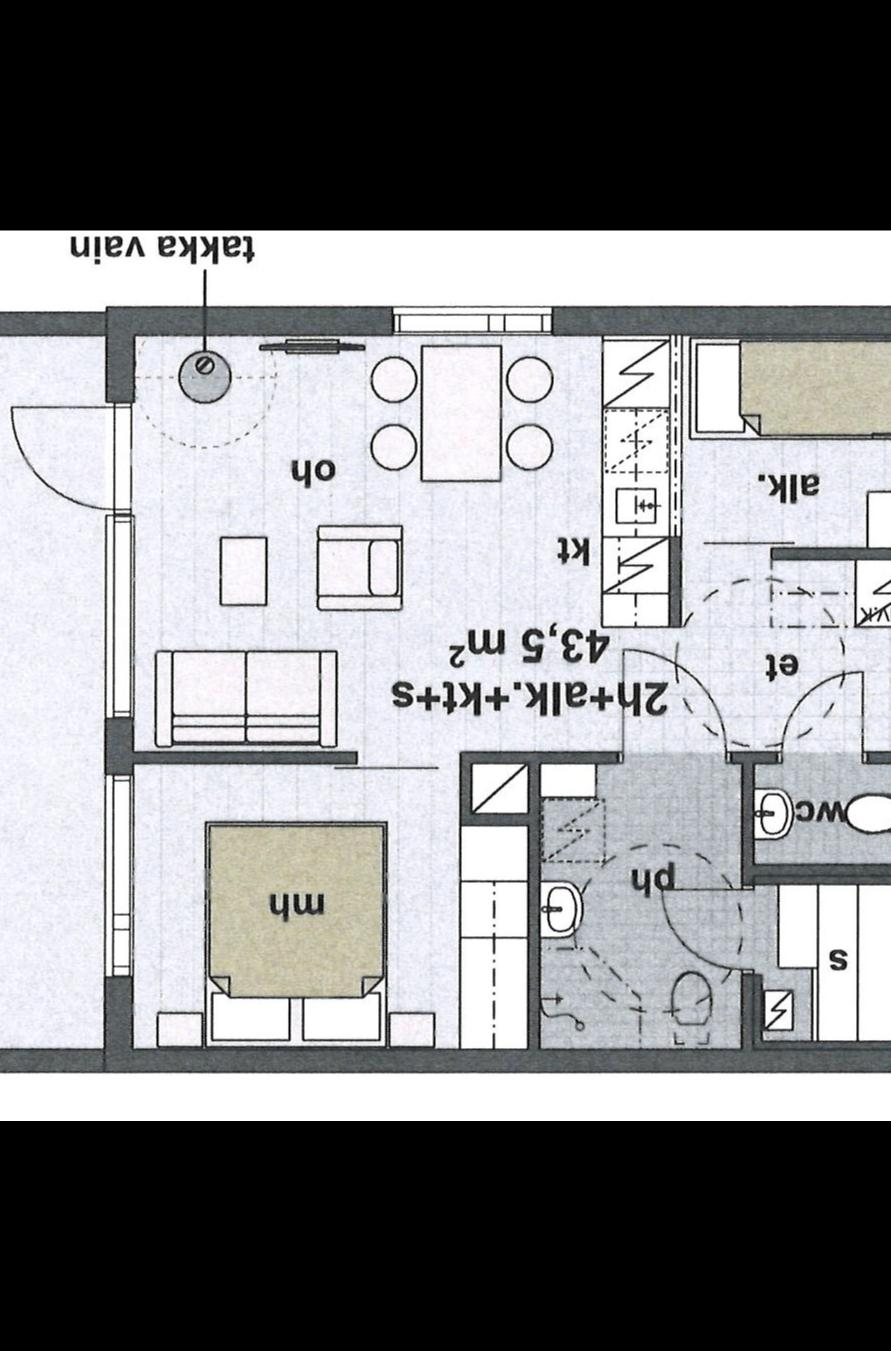bathroom: (540, 761, 742, 1048), (748, 761, 891, 865)
door: (3, 399, 144, 512), (616, 644, 728, 768), (657, 878, 760, 978), (775, 664, 871, 770)
perimeter: (102, 305, 891, 1076)
window: (97, 508, 146, 724), (93, 764, 140, 984), (379, 296, 559, 343)
